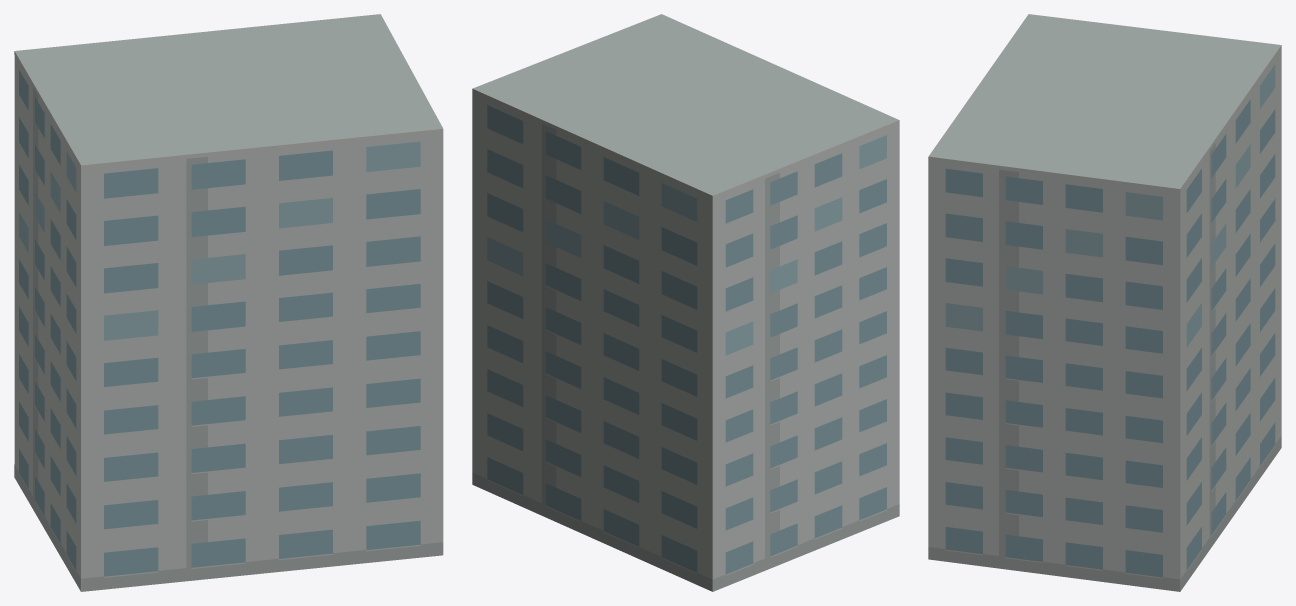
Rendered from survey-upis-32872731.glb.
3 views of the same model, side by side, from view 1: azimuth 30°, elevation 25°; view 2: azimuth 150°, elevation 25°; view 3: azimuth 270°, elevation 25° (orthographic). The views are drawn at different scales.
Visible parts, largest first — view 1: survey-upis-32872731.tmp; view 2: survey-upis-32872731.tmp; view 3: survey-upis-32872731.tmp.
Part boxes in pixels (x1,y1,x2,y2): survey-upis-32872731.tmp: (14, 14, 443, 591); survey-upis-32872731.tmp: (472, 14, 899, 591); survey-upis-32872731.tmp: (928, 14, 1281, 591).
Size of the model in its own units: 23.59 by 25.3 by 20.11.
